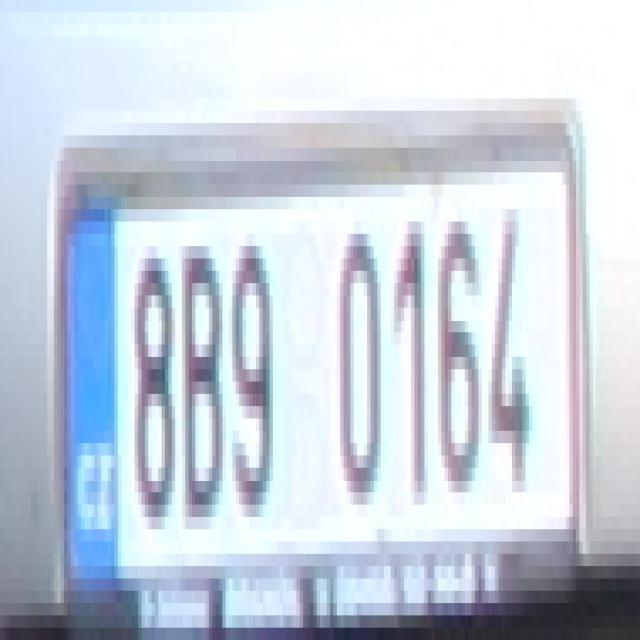0: (330, 197, 381, 492)
1: (387, 197, 428, 492)
4: (488, 185, 532, 504)
6: (438, 197, 485, 492)
8: (132, 246, 176, 517)
9: (229, 234, 276, 517)
B: (178, 246, 222, 517)
